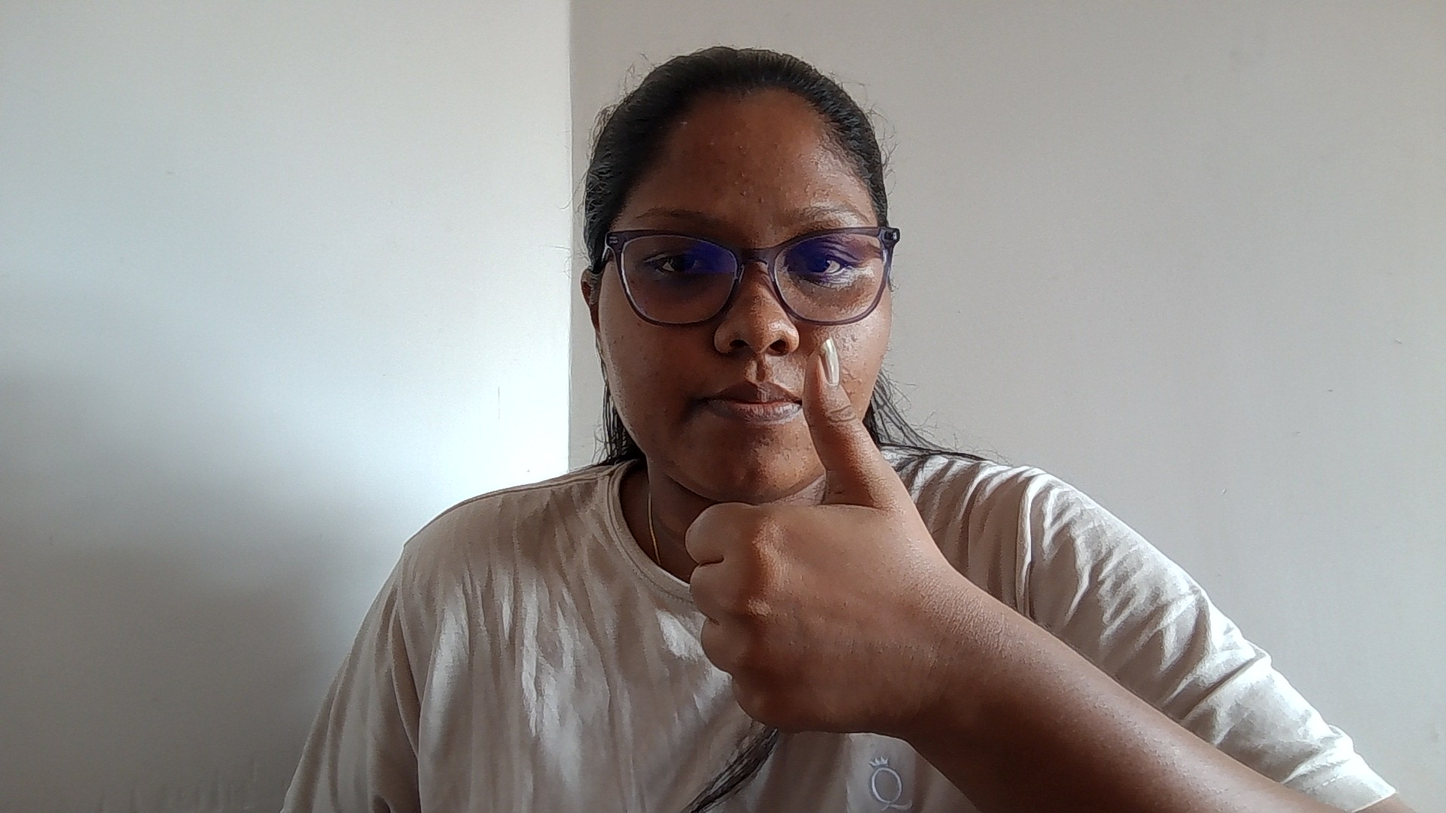Thumbs Up: (593, 295, 973, 777)
